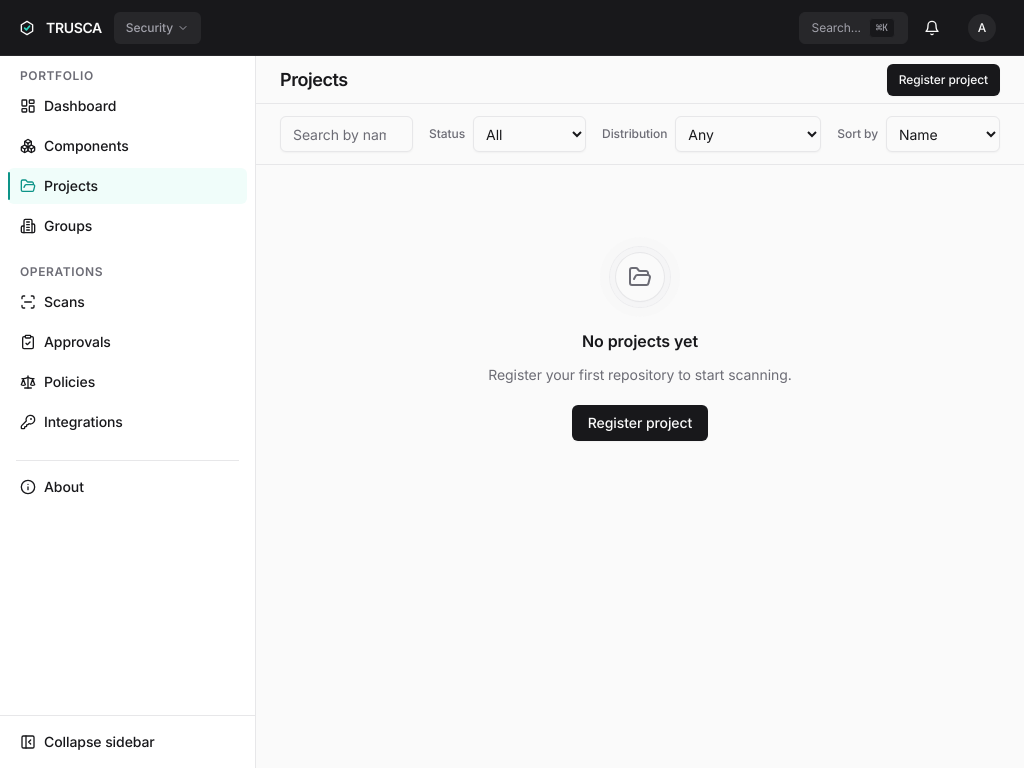
Test case: App smoke (authenticated) › shows the active team in the global bar, and lets a multi-team user switch
The width and height of the screenshot is (1024, 768).
Step 1. Click the button with test id "topbar-team-switcher" → click(157, 28), box [114,12,201,44]
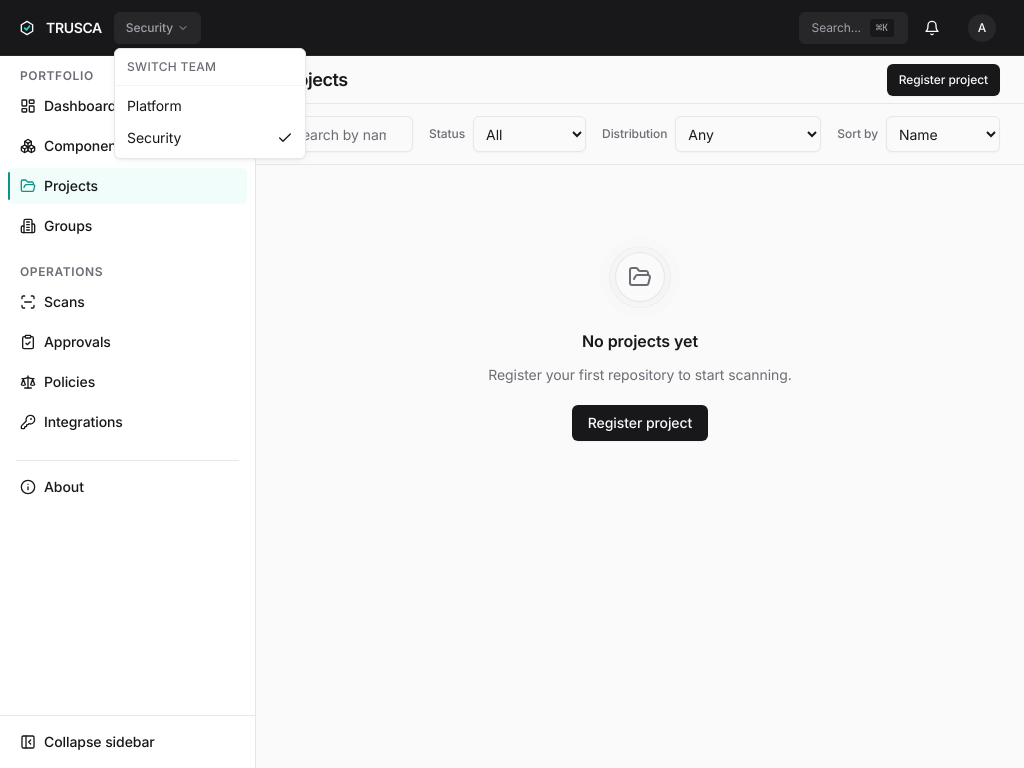
Step 2. Click the menu item with test id "topbar-team-option-team-1" → click(154, 106), box [127,97,182,114]
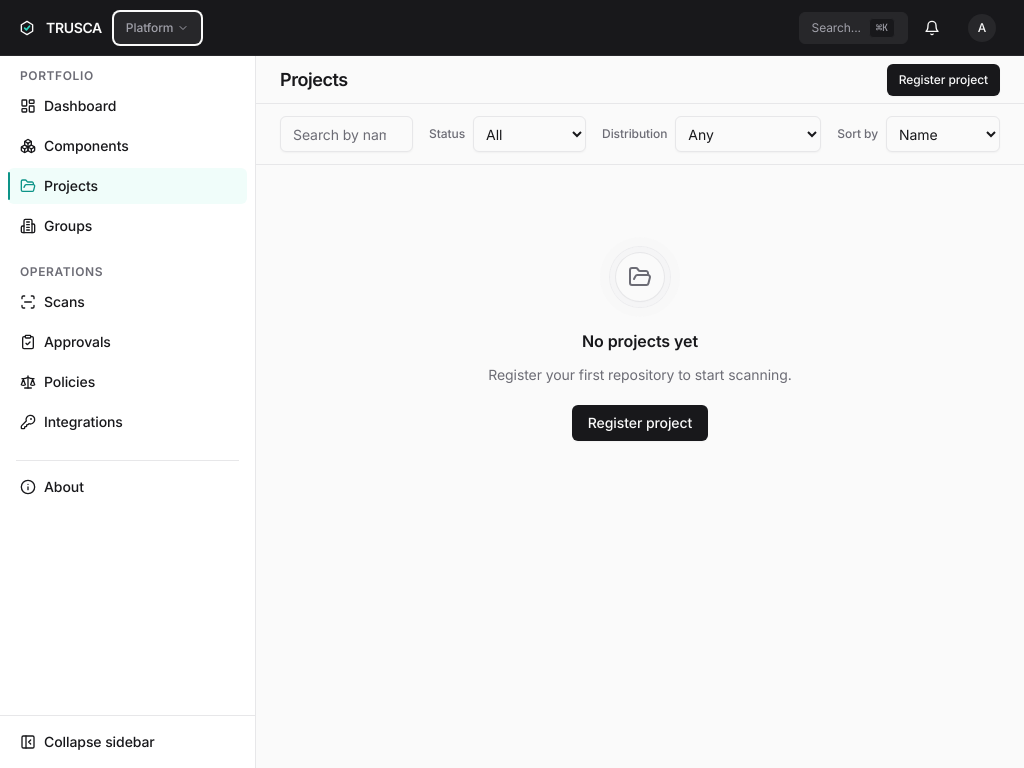
Expected: the button with test id "topbar-team-switcher" reads "Platform", [114,12,201,44]
